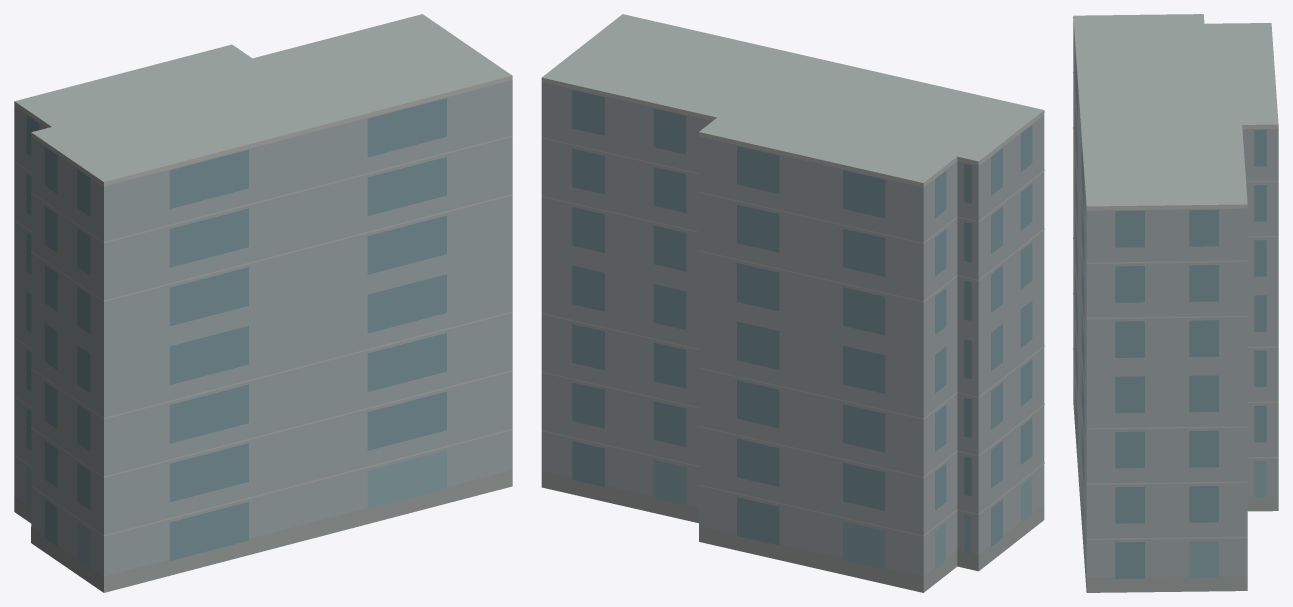
The model's file is survey-upis-32625907.glb.
3 views of the same model, side by side, from view 1: azimuth 30°, elevation 25°; view 2: azimuth 150°, elevation 25°; view 3: azimuth 270°, elevation 25° (orthographic). The views are drawn at different scales.
Visible parts, largest first — view 1: survey-upis-32625907.tmp; view 2: survey-upis-32625907.tmp; view 3: survey-upis-32625907.tmp.
Part boxes in pixels (x1=…): survey-upis-32625907.tmp: x1=14, y1=14, x2=512, y2=592; survey-upis-32625907.tmp: x1=541, y1=14, x2=1044, y2=592; survey-upis-32625907.tmp: x1=1073, y1=14, x2=1278, y2=592.
Size of the model in its own units: 23.84 by 22.3 by 10.76.
